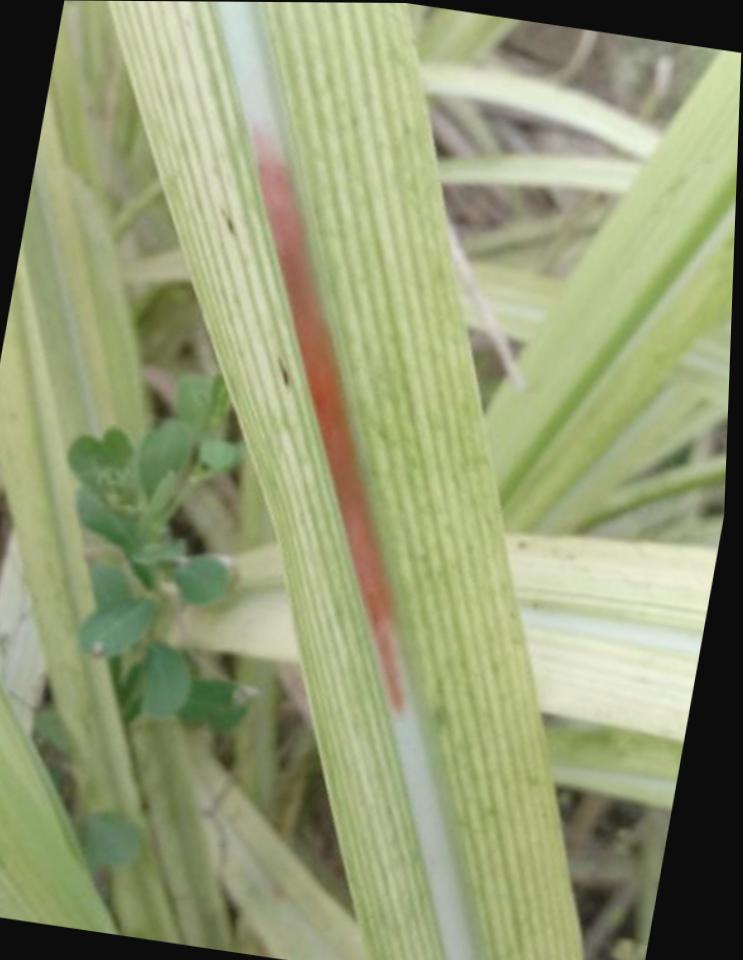RedRot: (250, 122, 406, 721)
Rust: (272, 350, 290, 391), (218, 205, 235, 238)
